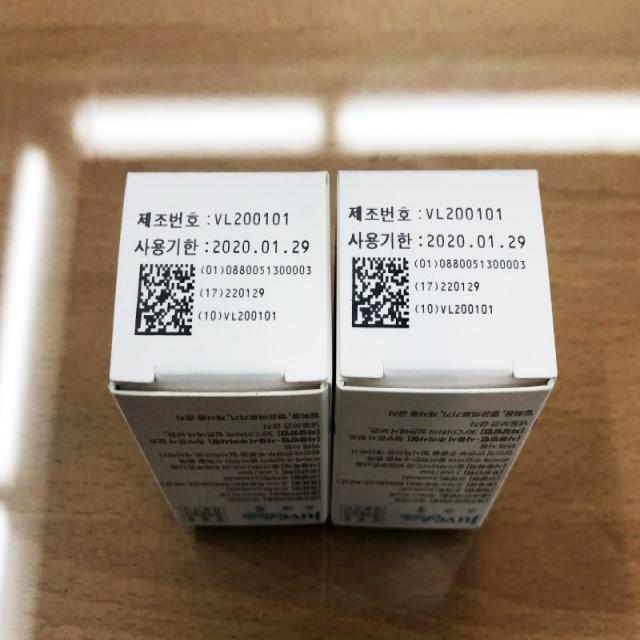datamatrix: (132, 259, 199, 341), (352, 255, 413, 334)
